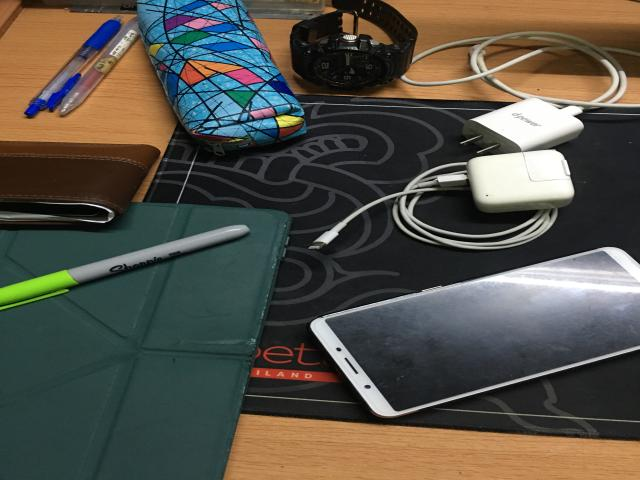Mobile phone: (310, 248, 638, 417)
Pen: (0, 225, 250, 305), (25, 17, 122, 116), (58, 17, 140, 115)
Wallet: (0, 142, 160, 223)
Watch: (290, 0, 417, 90)
wire: (400, 32, 640, 154), (308, 148, 577, 250)
